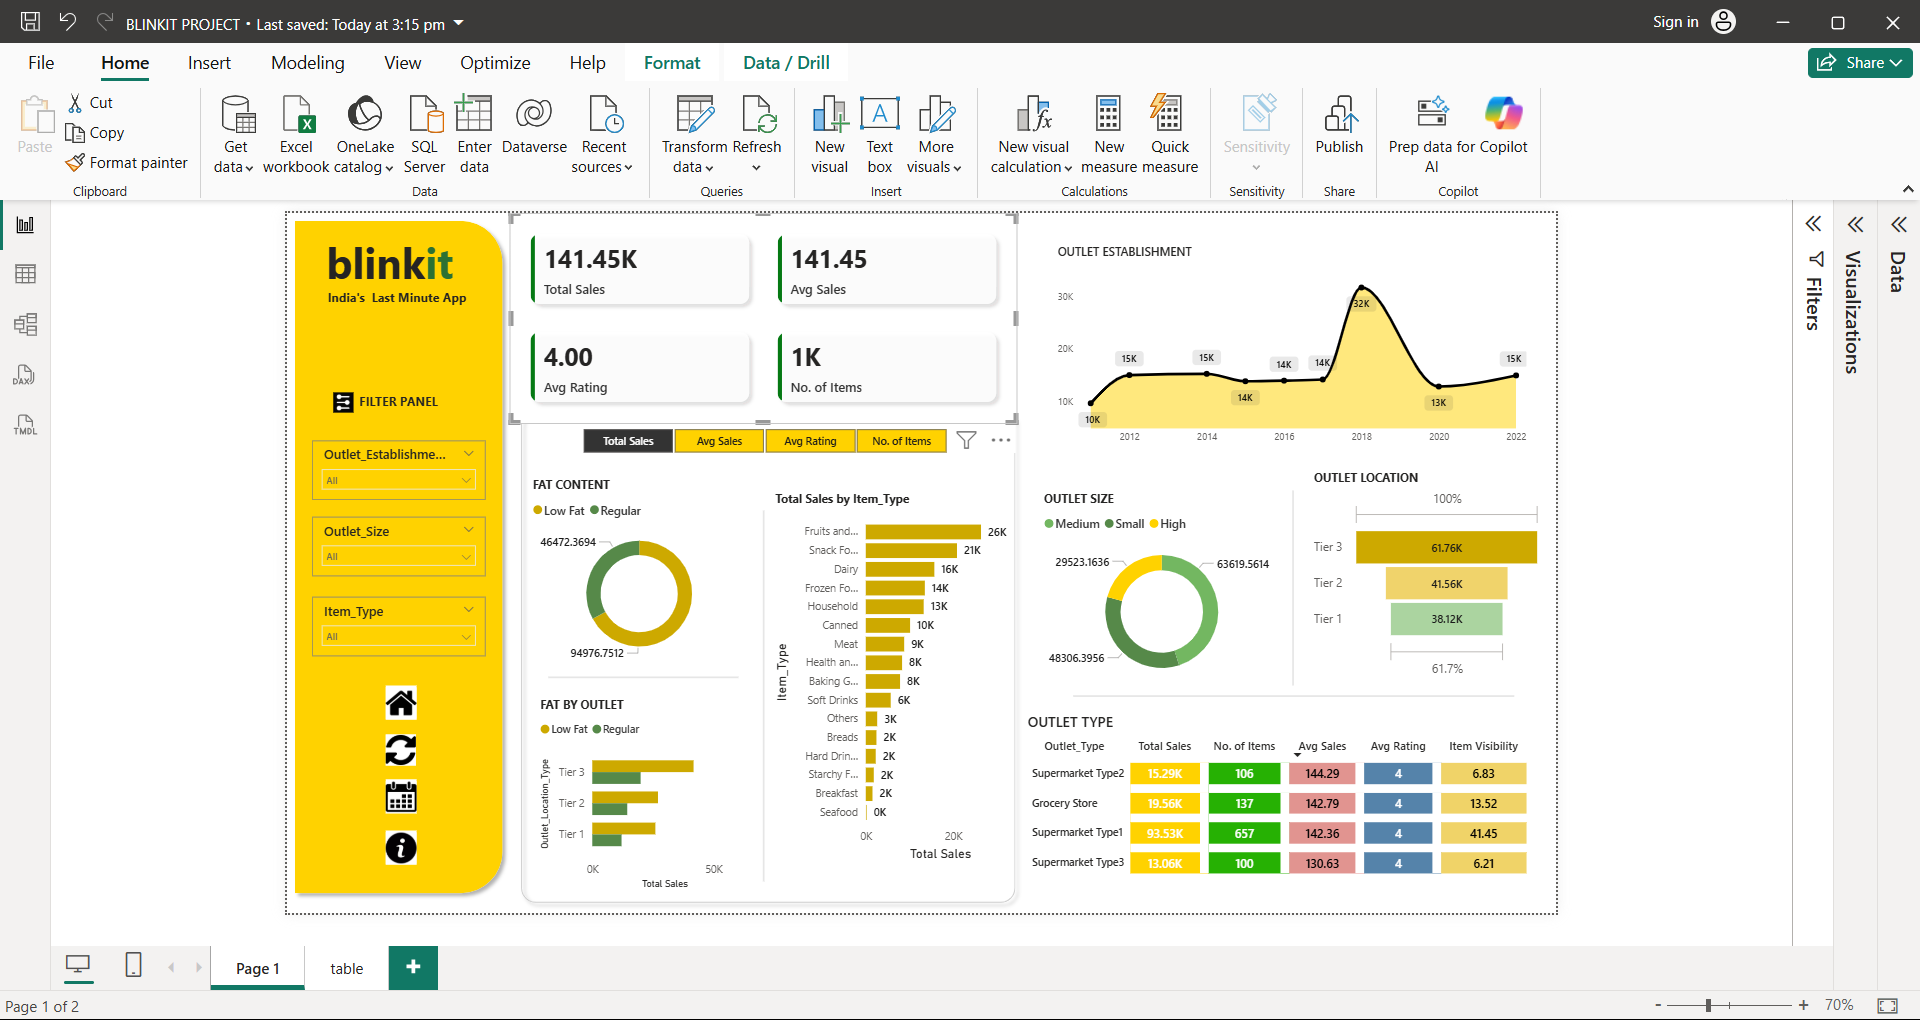

The page's visual inventory and layout, read from the dashboard file:
{"tool":"powerbi","page":{"name":"Page 1","canvas":[1450,800],"ordinal":0},"visuals":[{"type":"shape","box":[0,0,255.3,786.5],"z":0},{"type":"textbox","box":[39.4,19,205.2,76.1],"z":1000},{"type":"textbox","box":[40.8,81.5,175.3,40.8],"z":2000},{"type":"cardVisual","fields":{"Data":["Blinket_clean_dataset.Total Sales","Blinket_clean_dataset.Avg Sales","Blinket_clean_dataset.Avg Rating","Blinket_clean_dataset.No. of Items"]},"box":[253.7,0,580,241.1],"z":3000},{"type":"barChart","fields":{"Y":["Blinket_clean_dataset.No. of Items"],"Category":["Blinket_clean_dataset.Item_Type"]},"box":[553,316.6,294.8,428],"z":4000},{"type":"clusteredBarChart","title":"FAT BY OUTLET","fields":{"Y":["Blinket_clean_dataset.No. of Items"],"Category":["Blinket_clean_dataset.Outlet_Location_Type"],"Series":["Blinket_clean_dataset.Item_Fat_Content"]},"box":[284,553,245.9,225.5],"z":5000},{"type":"slicer","fields":{"Values":["Metrix.Metrix"]},"box":[312.5,240.5,464.7,40.8],"z":6000},{"type":"donutChart","title":"FAT CONTENT","fields":{"Y":["Blinket_clean_dataset.No. of Items"],"Category":["Blinket_clean_dataset.Item_Fat_Content"]},"box":[275.8,301.6,254.1,220.1],"z":7000},{"type":"shape","box":[298.9,516.3,217.4,29.9],"z":8000},{"type":"shape","box":[530.1,340.4,29.5,424.4],"z":9000},{"type":"lineChart","title":"OUTLET ESTABLISHMENT","fields":{"Category":["Blinket_clean_dataset.Outlet_Establishment_Year"],"Y":["Blinket_clean_dataset.Total Sales"]},"box":[876.4,34,546.2,239.1],"z":10000},{"type":"donutChart","title":"OUTLET SIZE","fields":{"Y":["Blinket_clean_dataset.No. of Items"],"Category":["Blinket_clean_dataset.Outlet_Size"]},"box":[860.1,316.6,279.9,229.6],"z":11000},{"type":"funnel","title":"OUTLET LOCATION","fields":{"Y":["Sum(Blinket_clean_dataset.Sales)"],"Category":["Blinket_clean_dataset.Outlet_Location_Type"]},"box":[1168.5,293.5,270.4,243.2],"z":12000},{"type":"shape","box":[1131.8,316.6,36.7,222.8],"z":13000},{"type":"shape","box":[898.1,536.7,504.1,29.9],"z":14000},{"type":"pivotTable","title":"OUTLET TYPE","fields":{"Rows":["Blinket_clean_dataset.Outlet_Type"],"Values":["Blinket_clean_dataset.Total Sales","Blinket_clean_dataset.No. of Items","Blinket_clean_dataset.Avg Sales","Blinket_clean_dataset.Avg Rating","Sum(Blinket_clean_dataset.Item_Visibility)"]},"box":[841,569.3,597.8,217.4],"z":15000},{"type":"slicer","fields":{"Values":["Blinket_clean_dataset.Outlet_Location_Type"]},"box":[28.5,259.5,198.4,67.9],"z":16000},{"type":"slicer","fields":{"Values":["Blinket_clean_dataset.Outlet_Size"]},"box":[28.5,347.8,198.4,67.9],"z":17000},{"type":"slicer","fields":{"Values":["Blinket_clean_dataset.Item_Type"]},"box":[28.5,438.9,198.4,67.9],"z":18000},{"type":"textbox","box":[39.4,199.7,175.3,40.8],"z":19000},{"type":"image","box":[53,178,23.1,76.1],"z":20000},{"type":"shape","box":[258.5,215.9,575.3,581.6],"z":21000},{"type":"actionButton","box":[112.8,539.4,35.3,39.4],"z":22000},{"type":"actionButton","box":[112.8,646.7,35.3,39.4],"z":23000},{"type":"actionButton","box":[112.8,705.2,35.3,39.4],"z":24000},{"type":"actionButton","box":[113.5,595.8,34.7,36.2],"z":25000}]}

Visuals, with their boxes on the page's 1450x800 design canvas (x1, y1, x2, y2). These are canvas units, not pixel positions in the 1920x1020 screenshot, which may show the page scaled, cropped or inside an application window:
shape: 0,0,255,786
textbox: 39,19,245,95
textbox: 41,82,216,122
cardVisual - Blinket_clean_dataset.Total Sales x Blinket_clean_dataset.Avg Sales: 254,0,834,241
barChart - Blinket_clean_dataset.No. of Items x Blinket_clean_dataset.Item_Type: 553,317,848,745
"FAT BY OUTLET" clusteredBarChart: 284,553,530,778
slicer - Metrix.Metrix: 312,240,777,281
"FAT CONTENT" donutChart: 276,302,530,522
shape: 299,516,516,546
shape: 530,340,560,765
"OUTLET ESTABLISHMENT" lineChart: 876,34,1423,273
"OUTLET SIZE" donutChart: 860,317,1140,546
"OUTLET LOCATION" funnel: 1168,294,1439,537
shape: 1132,317,1168,539
shape: 898,537,1402,567
"OUTLET TYPE" pivotTable: 841,569,1439,787
slicer - Blinket_clean_dataset.Outlet_Location_Type: 28,260,227,327
slicer - Blinket_clean_dataset.Outlet_Size: 28,348,227,416
slicer - Blinket_clean_dataset.Item_Type: 28,439,227,507
textbox: 39,200,215,240
image: 53,178,76,254
shape: 258,216,834,798
actionButton: 113,539,148,579
actionButton: 113,647,148,686
actionButton: 113,705,148,745
actionButton: 114,596,148,632
